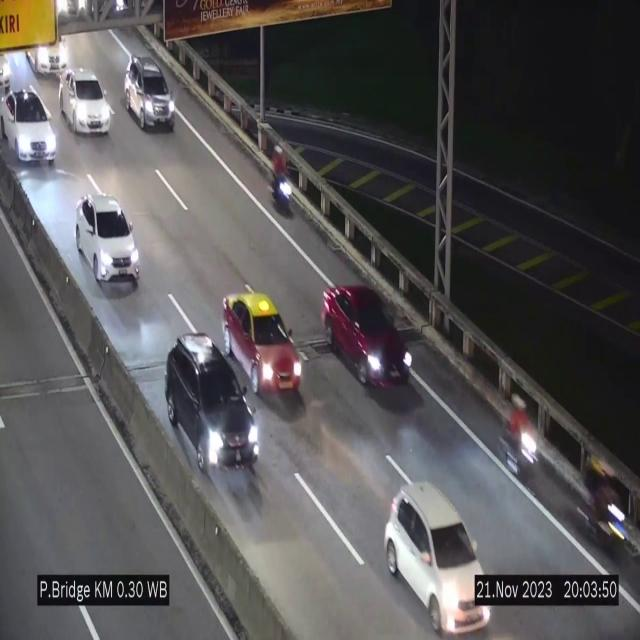Car: (385, 482, 489, 634), (164, 333, 263, 474), (322, 279, 419, 393), (218, 287, 306, 402), (76, 193, 139, 290), (0, 84, 61, 164), (124, 56, 176, 130), (60, 68, 111, 132), (25, 31, 71, 86)
Motorcycle: (586, 457, 630, 559), (502, 391, 538, 477), (269, 136, 294, 213)
